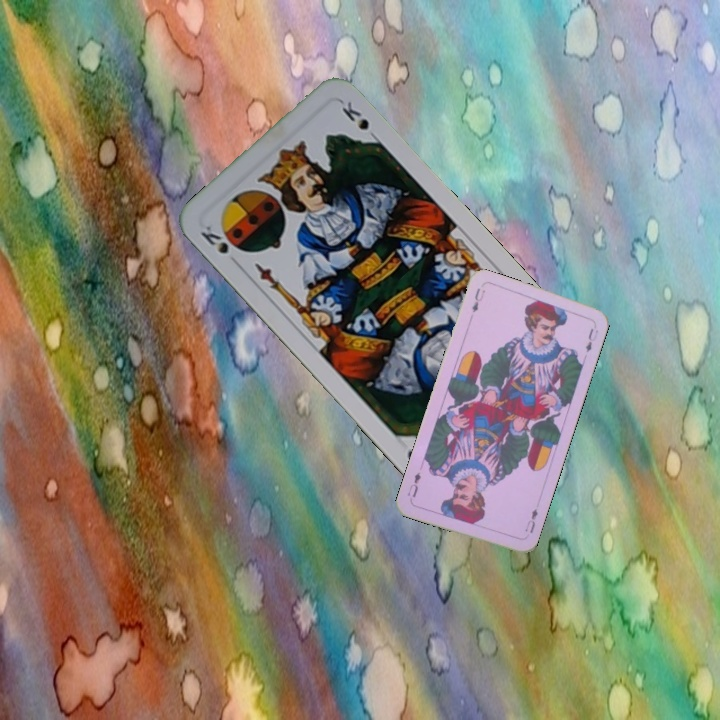EU: (521, 504, 541, 536), (468, 284, 488, 315)
SK: (196, 221, 232, 257)
